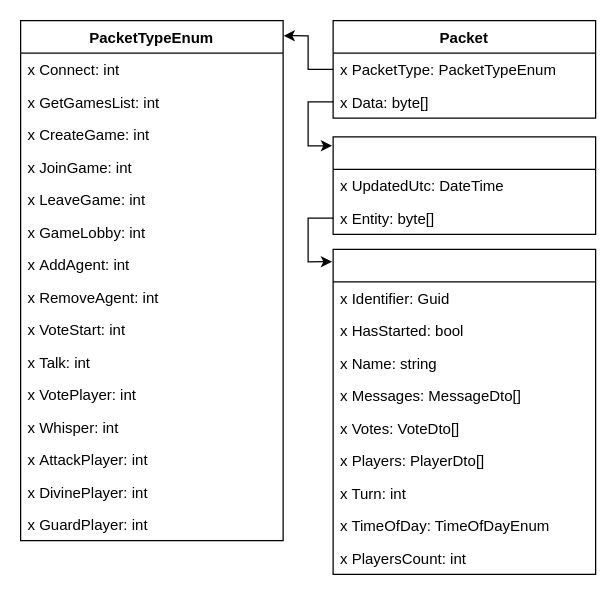
Some shapes in this 616 by 595 pixel diagram are drawn without their labels. The shapes that lost their labels are listed below. From the top down, each one's box as (x1, y1, x2, y2) in pixels, then its label:
(332, 136, 596, 234): UpdatedEntityDto
(332, 248, 596, 574): GameDto
